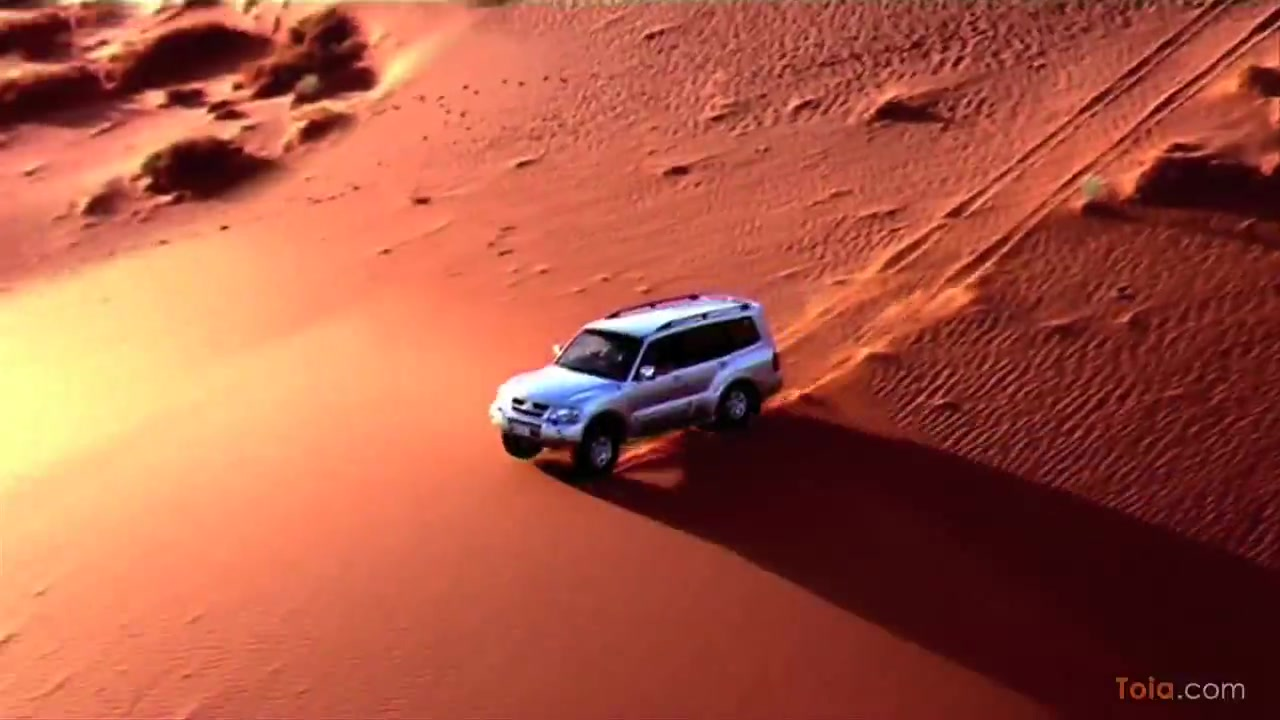car: (489, 295, 787, 487)
